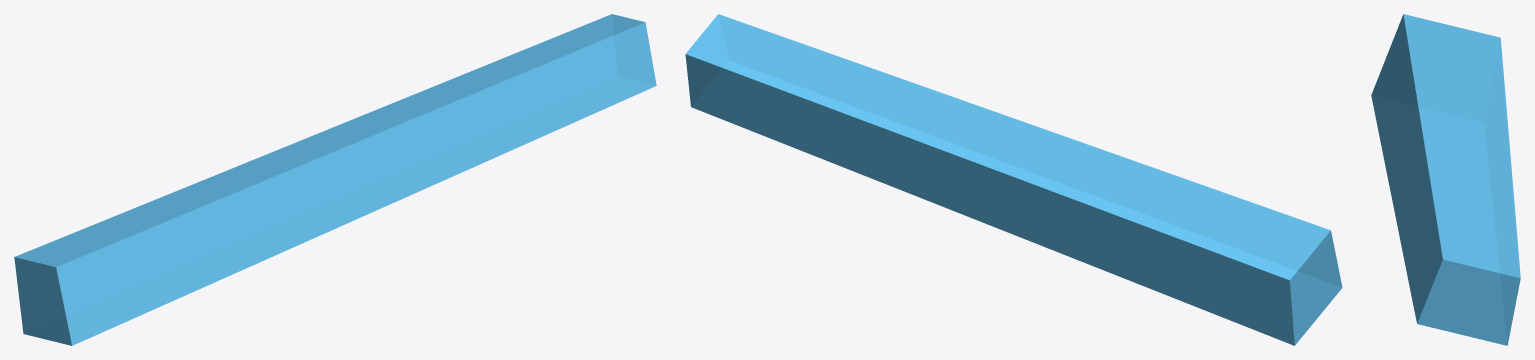
File: Event_421115418_HErechit_26.fbx
3 renders of one model, left to right at view 1: azimuth 30°, elevation 25°; view 2: azimuth 150°, elevation 25°; view 3: azimuth 270°, elevation 25°, orthographic. The views are drawn at different scales.
Parts seen in each view (by area): view 1: Model; view 2: Model; view 3: Model.
Part boxes in pixels (bbox=[...]): Model: bbox=[14, 14, 656, 345]; Model: bbox=[685, 14, 1342, 345]; Model: bbox=[1371, 14, 1520, 345].
Size of the model in its own units: 2.54 by 0.711 by 0.4675.
